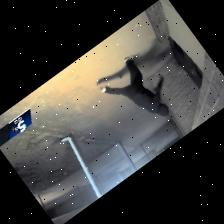person: (99, 56, 168, 116)
